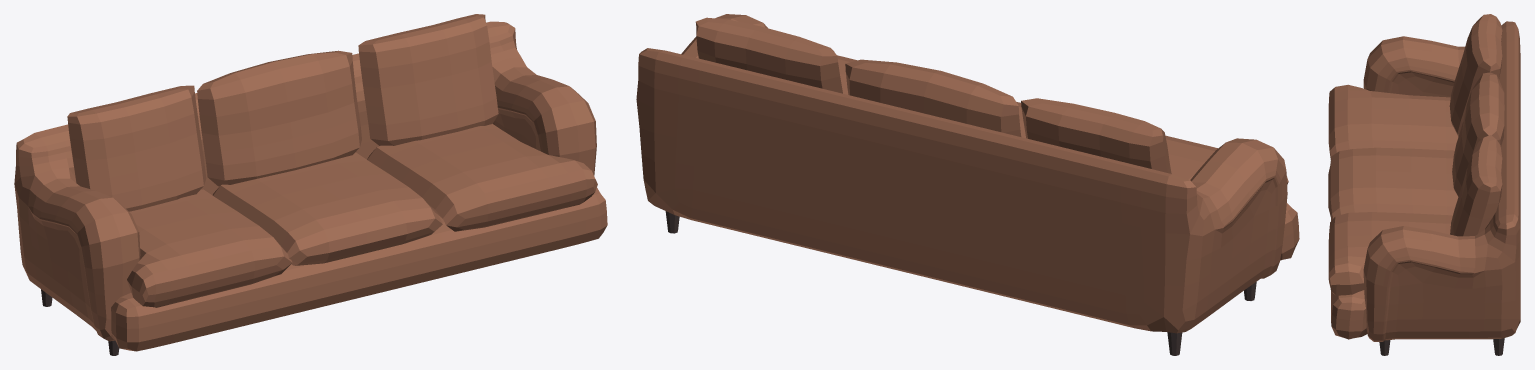
The model's file is sofa_leather.glb.
3 renders of one model, left to right at view 1: azimuth 30°, elevation 25°; view 2: azimuth 150°, elevation 25°; view 3: azimuth 270°, elevation 25°, orthographic. The views are drawn at different scales.
Parts seen in each view (by area): view 1: Sofa2; view 2: Sofa2; view 3: Sofa2.
Part boxes in pixels (<box>): Sofa2: <box>14,14,607,355</box>; Sofa2: <box>636,14,1299,355</box>; Sofa2: <box>1328,14,1520,355</box>.
Bounding box in the file's own units: 4 × 1.45 × 1.54.
